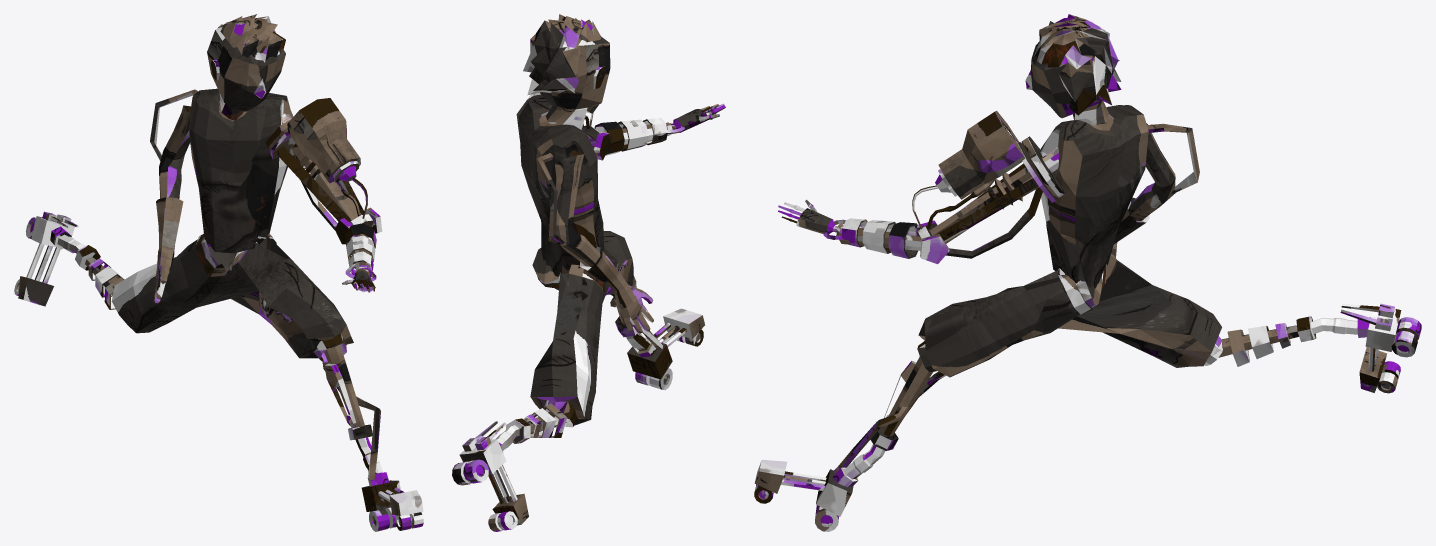
File: CyborgFINALAnimation_000034.obj
3 views of the same model, side by side, from view 1: azimuth 30°, elevation 25°; view 2: azimuth 150°, elevation 25°; view 3: azimuth 270°, elevation 25° (orthographic). The views are drawn at different scales.
Visible parts, largest first — view 1: CyborgMesh_Cube.002; view 2: CyborgMesh_Cube.002; view 3: CyborgMesh_Cube.002.
Part boxes in pixels (x1,y1,x2,y2): CyborgMesh_Cube.002: [14, 14, 423, 531]; CyborgMesh_Cube.002: [452, 14, 725, 531]; CyborgMesh_Cube.002: [754, 14, 1421, 531].
Bounding box in the file's own units: 3.05 × 7.99 × 9.88.
